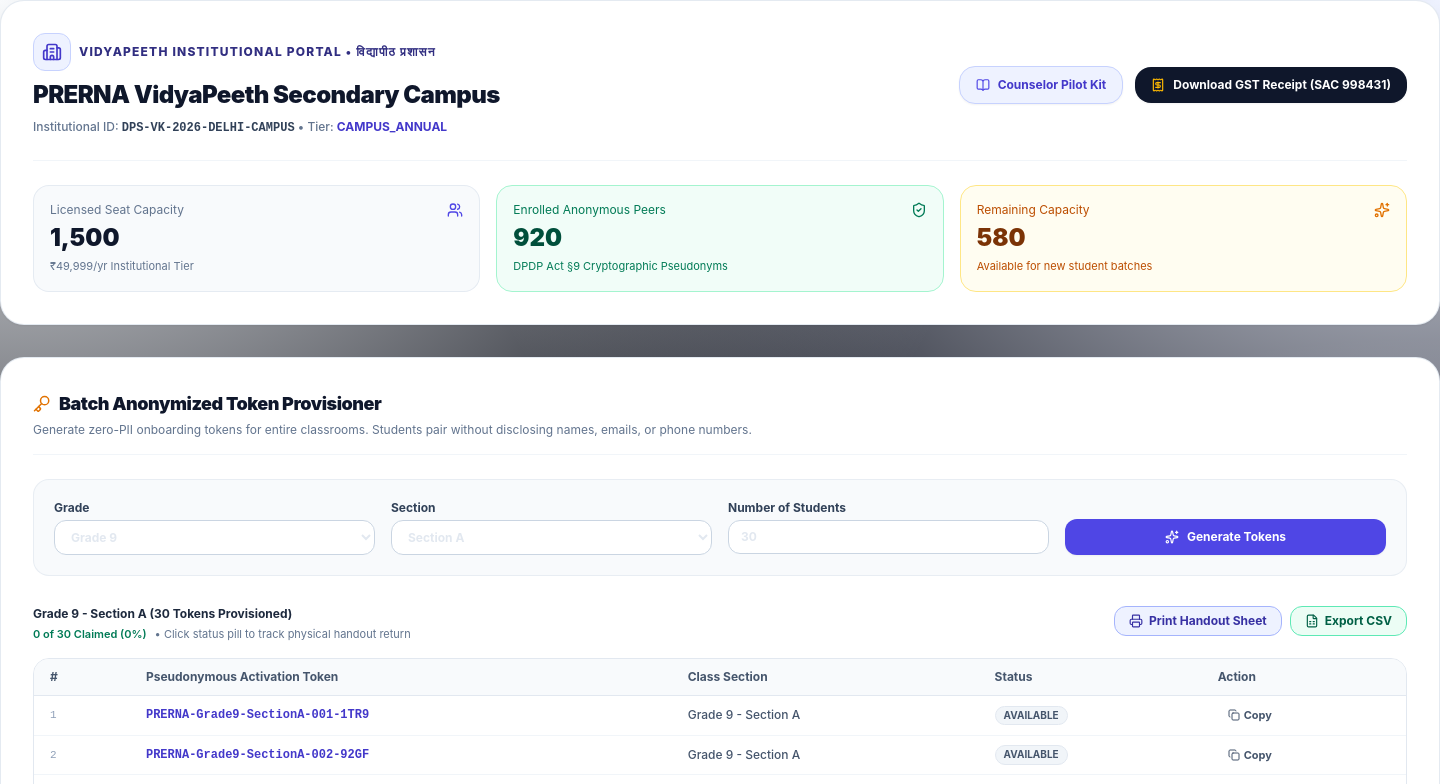
Test: InstitutionalAdminPortal Component › downloads GST Tax Invoice with SAC 998431 breakdown
The image size is (1440, 784).
What coordinates should you click on to do the following:
click the button "Download GST Receipt (SAC 998431)"
I would click on:
 (1271, 84)
Its box is [1135,66,1407,102].
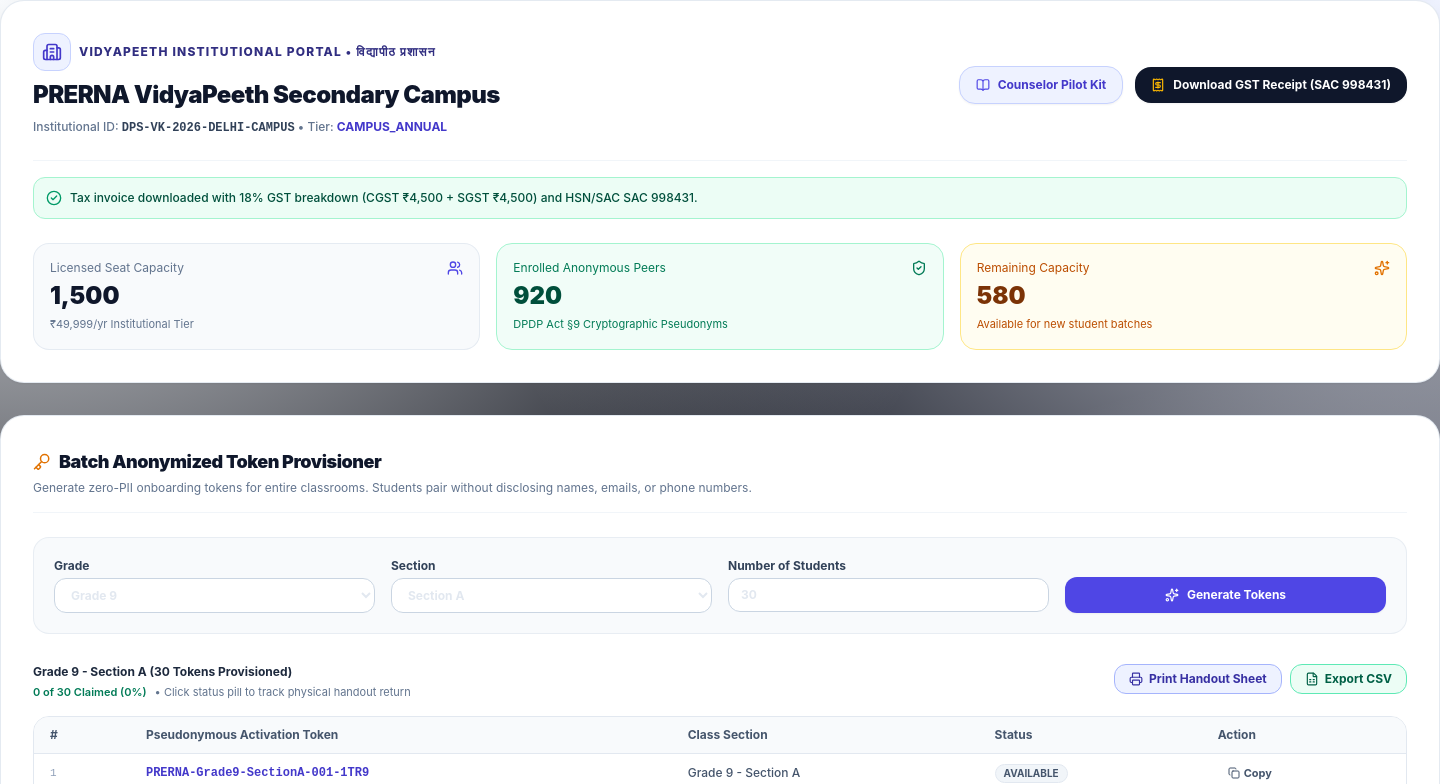
Expected: the text "Tax invoice downloaded with 18% GST breakdown" is shown, [70,190,698,205]
